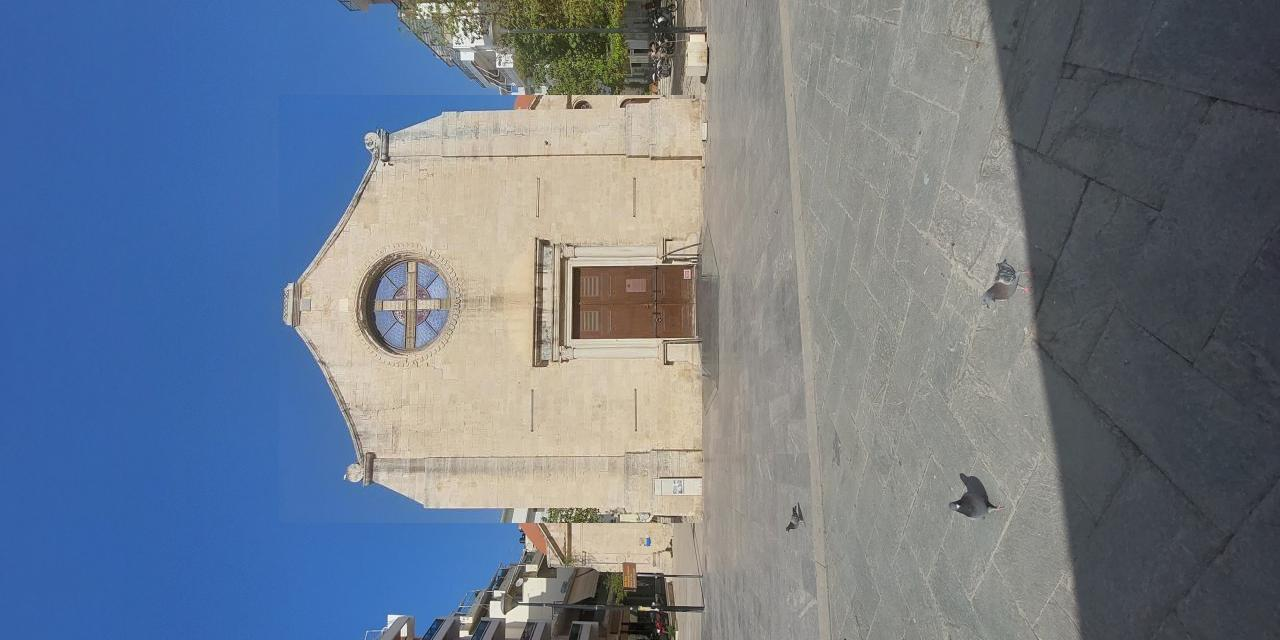Agia Aikaterini: (280, 96, 703, 524)
